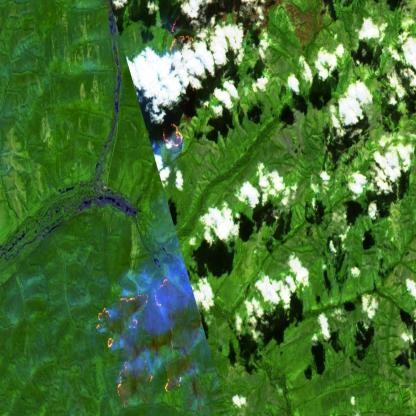fire: (87, 272, 187, 410), (164, 0, 196, 63), (159, 119, 185, 154)
